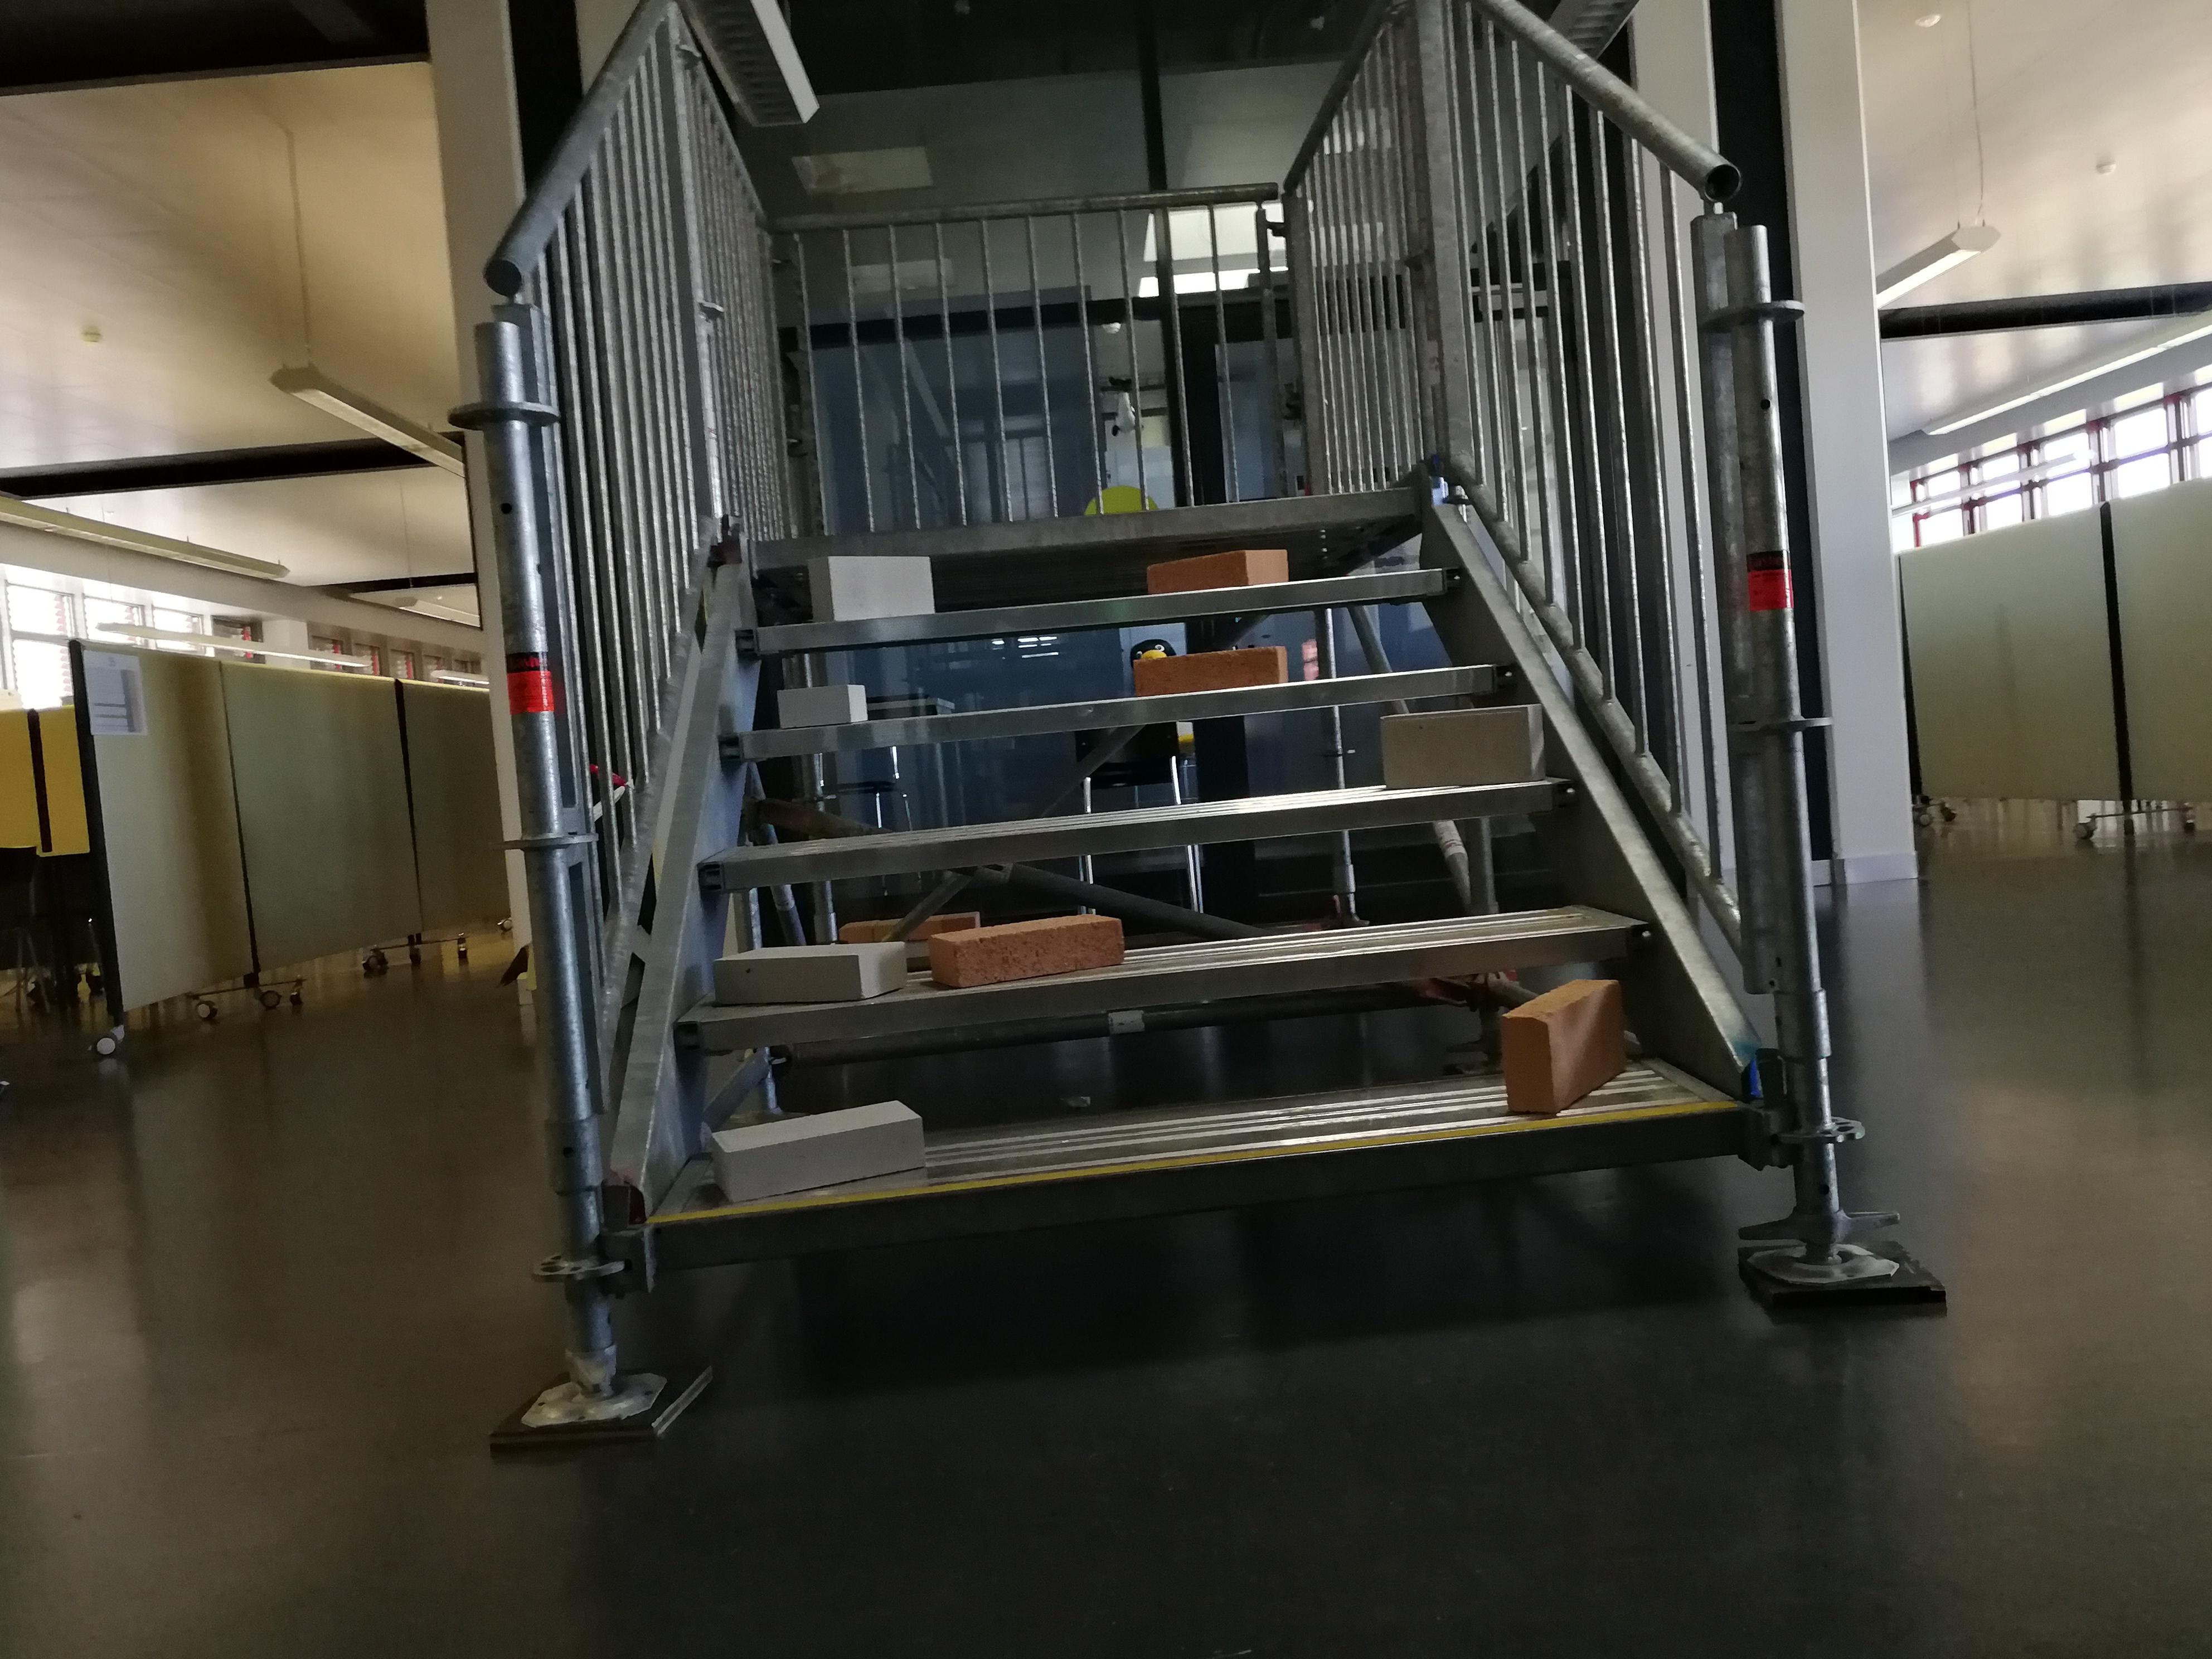brick: (709, 1100, 920, 1201), (1503, 978, 1623, 1115), (934, 911, 1118, 988), (1385, 706, 1543, 784), (718, 945, 906, 997), (806, 554, 932, 619), (1134, 650, 1282, 694), (1151, 549, 1284, 596), (777, 681, 866, 727)
edge: (657, 1103, 1749, 1279), (676, 918, 1651, 1053), (705, 781, 1585, 887), (719, 664, 1514, 760), (730, 566, 1472, 653), (751, 486, 1421, 561)
stairs: (444, 7, 1949, 1441)
steps: (643, 464, 1771, 1298)
